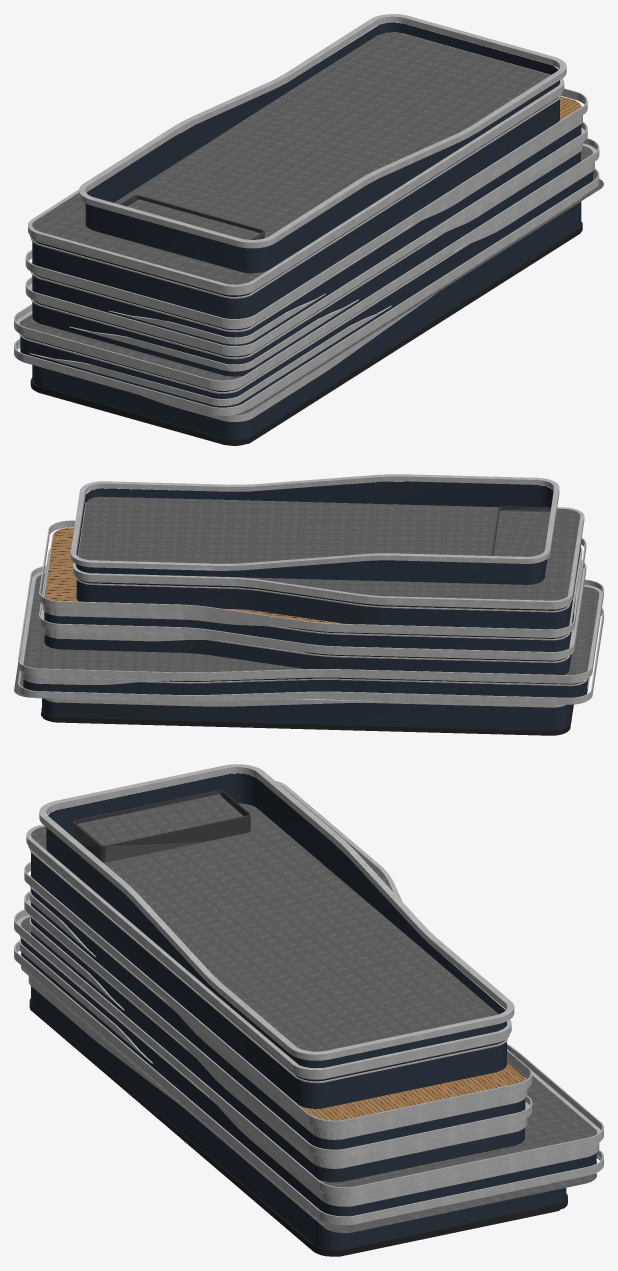
File: 最终优化楼05.fbx
The picture shows the model from 3 angles, top to bottom: view 1: azimuth 30°, elevation 25°; view 2: azimuth 150°, elevation 25°; view 3: azimuth 270°, elevation 25°; orthographic projection. The views are drawn at different scales.
Visible parts, largest first — view 1: 玻璃, 白色外墙, 楼顶片, 黑色内墙, 楼内片, 楼顶盒子; view 2: 玻璃, 白色外墙, 楼顶片, 楼内片, 黑色内墙, 楼顶盒子, 木地板; view 3: 白色外墙, 玻璃, 楼顶片, 楼内片, 楼顶盒子, 黑色内墙, 木地板.
Part boxes in pixels (<box>): 玻璃: <box>20,22,592,439</box>; 白色外墙: <box>14,14,599,421</box>; 楼顶片: <box>31,32,558,296</box>; 黑色内墙: <box>23,98,582,445</box>; 楼内片: <box>19,146,603,414</box>; 楼顶盒子: <box>120,195,264,239</box>; 玻璃: <box>23,481,588,730</box>; 白色外墙: <box>18,474,603,707</box>; 楼顶片: <box>78,496,580,607</box>; 楼内片: <box>14,573,599,697</box>; 黑色内墙: <box>24,552,583,735</box>; 楼顶盒子: <box>491,506,550,556</box>; 木地板: <box>45,527,344,623</box>; 白色外墙: <box>14,764,603,1225</box>; 玻璃: <box>21,773,596,1249</box>; 楼顶片: <box>31,785,498,1068</box>; 楼内片: <box>21,917,597,1232</box>; 楼顶盒子: <box>73,790,250,862</box>; 黑色内墙: <box>29,894,567,1256</box>; 木地板: <box>300,1062,525,1120</box>.
Size of the model in its own units: 101819 by 30163 by 77349.
Materials: 6 (4 with a texture image).
